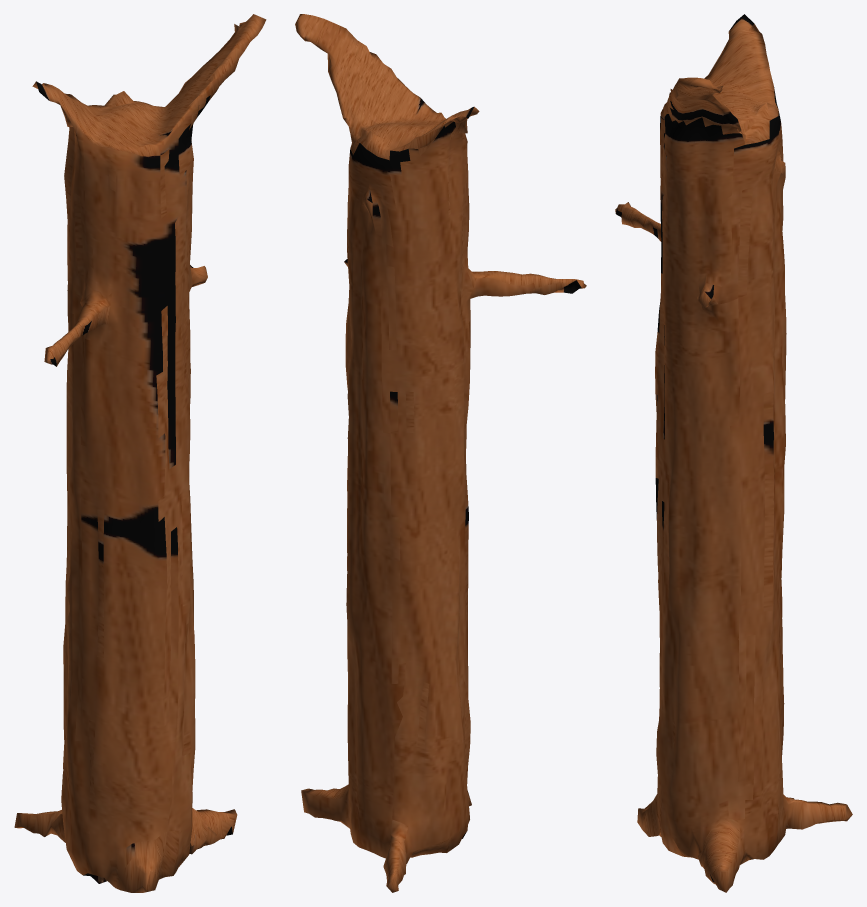
Rendered from arbol.fbx.
3 views of the same model, side by side, from view 1: azimuth 30°, elevation 25°; view 2: azimuth 150°, elevation 25°; view 3: azimuth 270°, elevation 25° (orthographic). The views are drawn at different scales.
Visible parts, largest first — view 1: Cylinder; view 2: Cylinder; view 3: Cylinder.
Boxes of the visible parts, left/top/right/bottom form: Cylinder: left=14, top=14, right=266, bottom=892; Cylinder: left=295, top=14, right=586, bottom=892; Cylinder: left=615, top=14, right=852, bottom=892.
Size of the model in its own units: 503 by 1529 by 400.
Materials: 1 (1 with a texture image).
